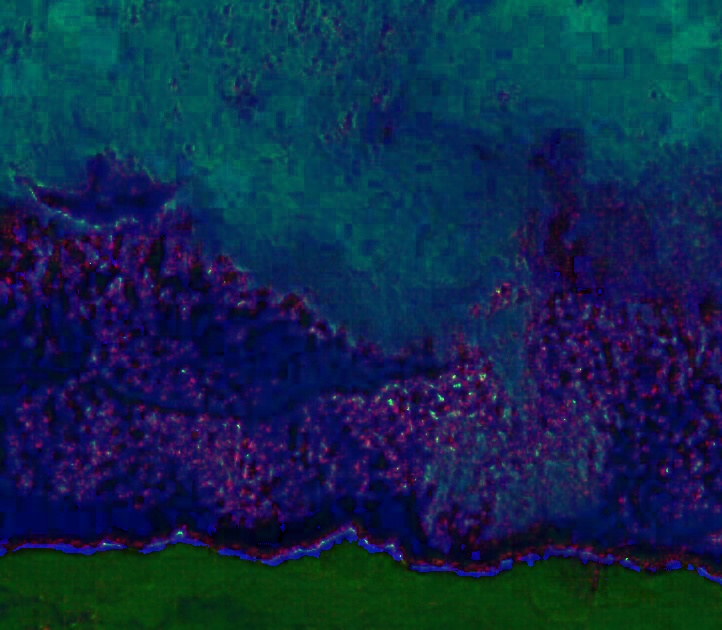rip_current: (162, 116, 583, 437)
